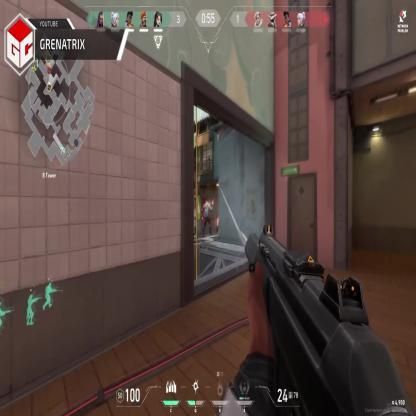enemy: (202, 196, 212, 236)
enemy_head: (205, 197, 208, 202)
